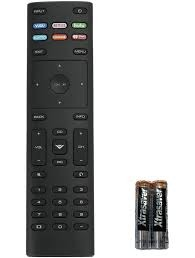remote control: (28, 8, 94, 249)
